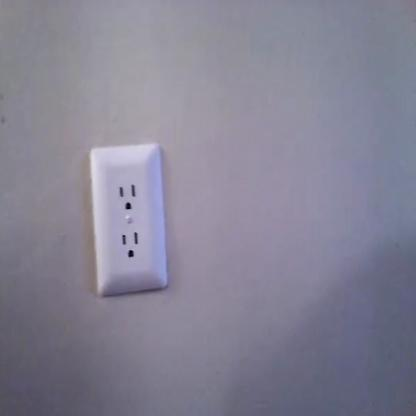OUTLET: (90, 146, 168, 294)
